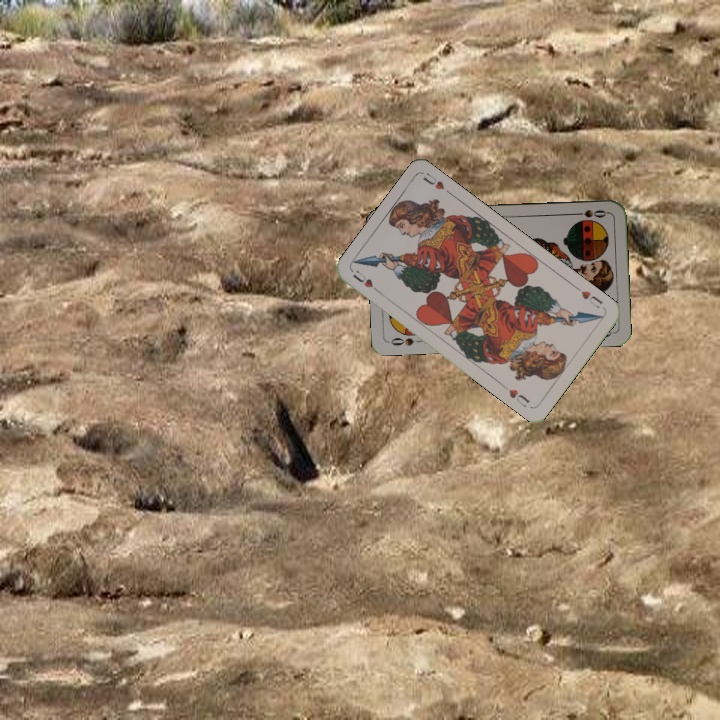HU: (349, 266, 383, 296), (577, 287, 605, 311)
SO: (387, 333, 427, 348), (569, 206, 610, 220)
